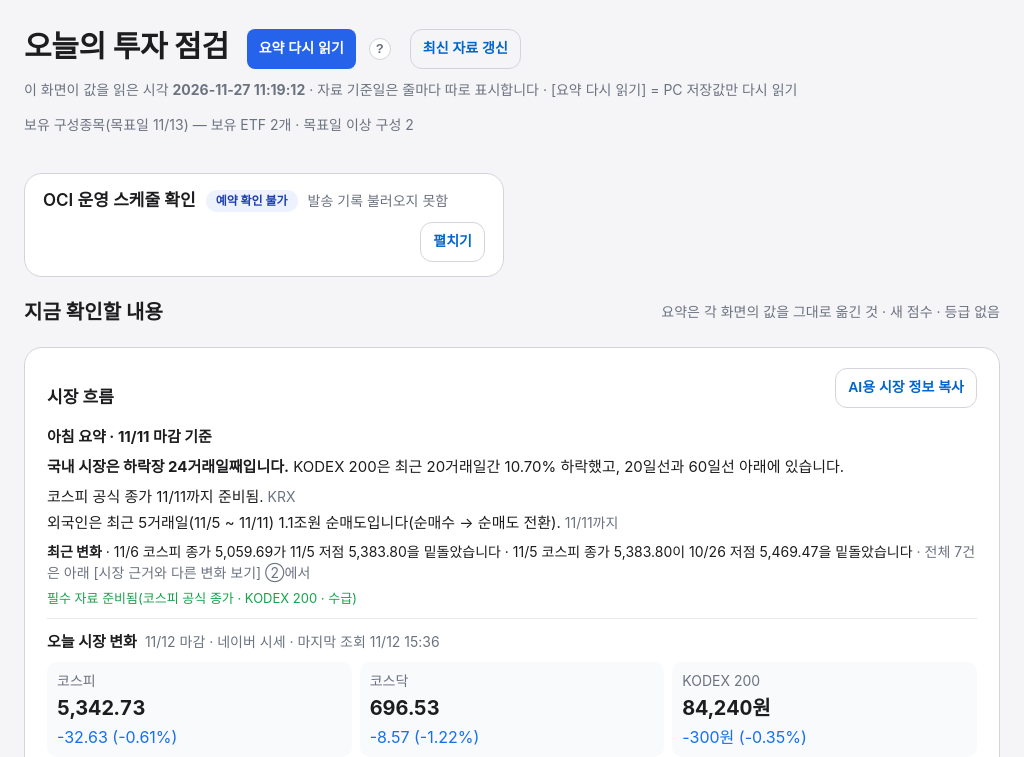
Test: [AI용 시장 정보 복사](설계 §6 · 판정 §4 · POC6-32 V2 PLAN §4-1) › I-23 — 앞서 읽은 공통 근거가 있어도 이번 읽기가 실패하면 복사하지 않는다(이전 응답으로 대신하지 않음)
Click the button "AI용 시장 정보 복사" at (906, 388), box [835,368,977,408]
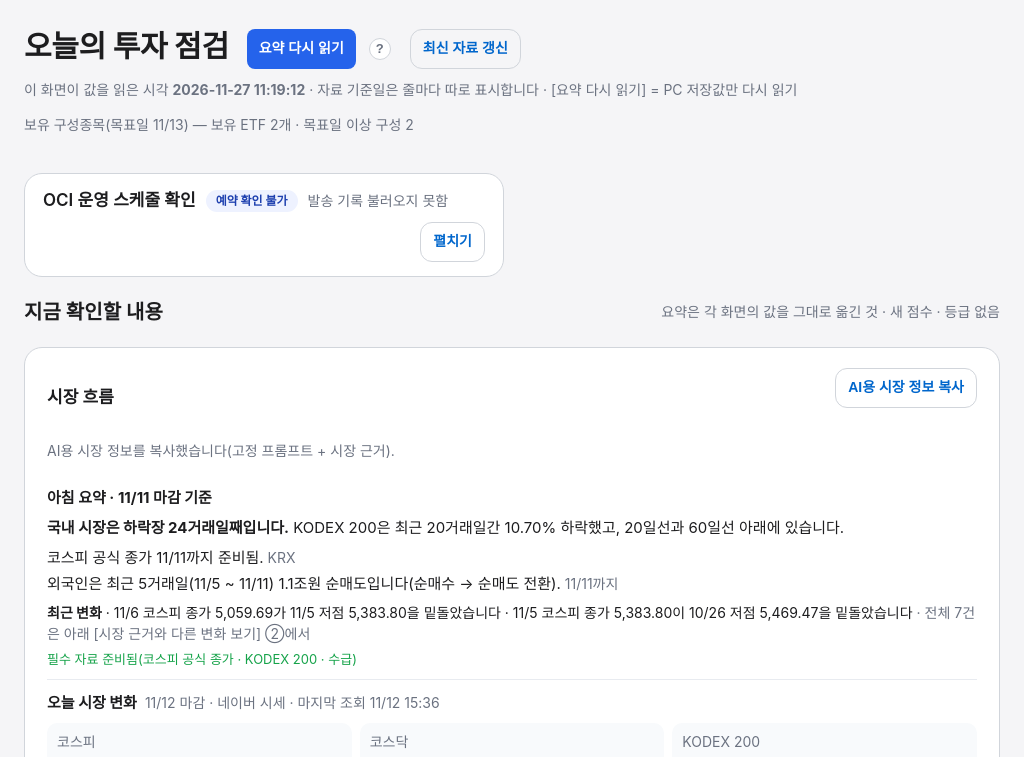
Click the button "AI용 시장 정보 복사" at (906, 388), box [835,368,977,408]
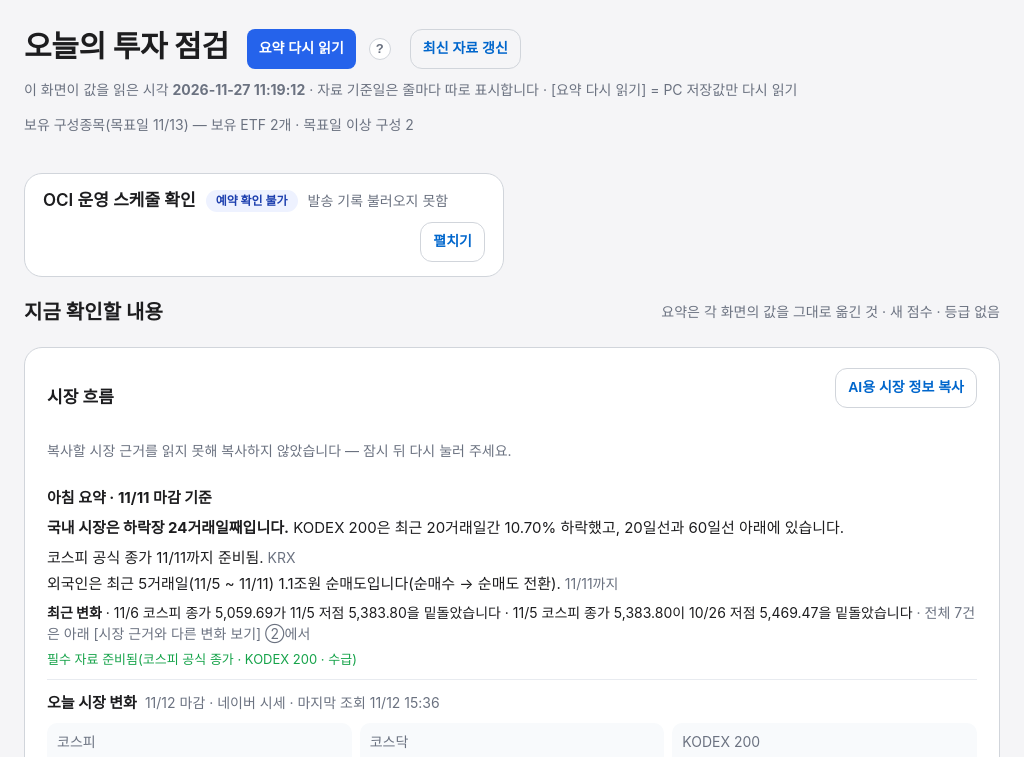
expect the text with test id "tc-copy-message" reads "복사할 시장 근거를 읽지 못해 복사하지 않았습니다 — 잠시 뒤 다시 눌러 주세요.": met, box [47,442,512,459]
